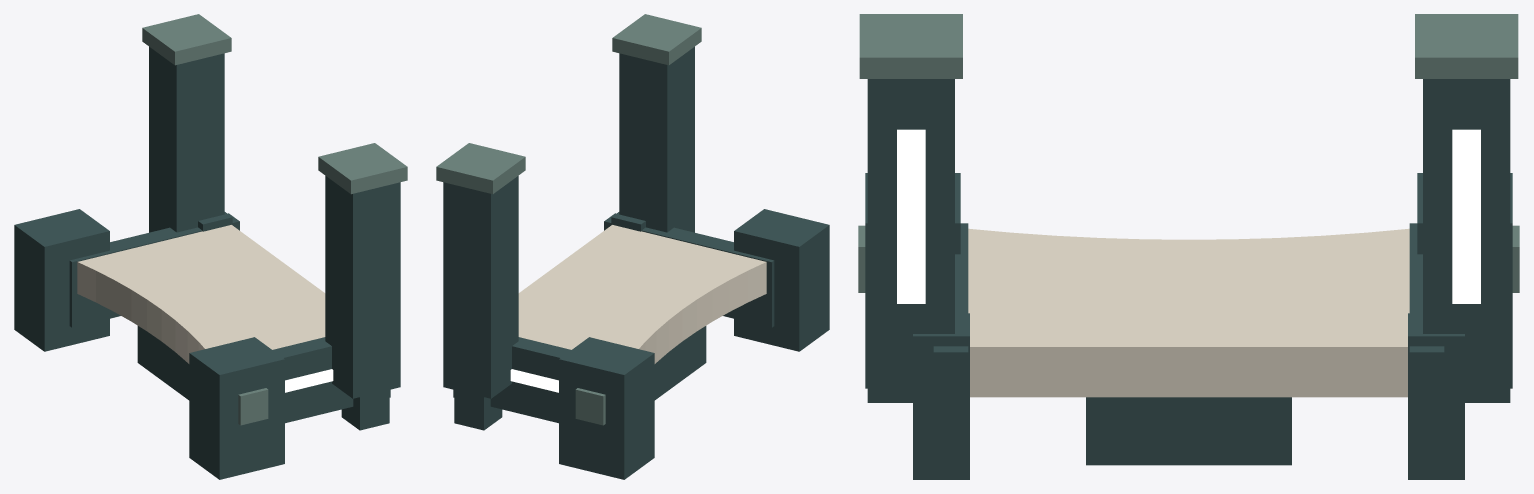
Rendered from Pier_Angled_00_Switch_lab.glb.
The picture shows the model from 3 angles, left to right: view 1: azimuth 30°, elevation 25°; view 2: azimuth 150°, elevation 25°; view 3: azimuth 270°, elevation 25°; orthographic projection. The views are drawn at different scales.
Parts seen in each view (by area): view 1: Pier_Angled_00_Switch; view 2: Pier_Angled_00_Switch; view 3: Pier_Angled_00_Switch.
Part boxes in pixels (x1,y1,x2,y2): Pier_Angled_00_Switch: [14, 14, 407, 479]; Pier_Angled_00_Switch: [436, 14, 829, 479]; Pier_Angled_00_Switch: [858, 14, 1519, 479].
Bounding box in the file's own units: 2.21 × 2.95 × 4.17.
